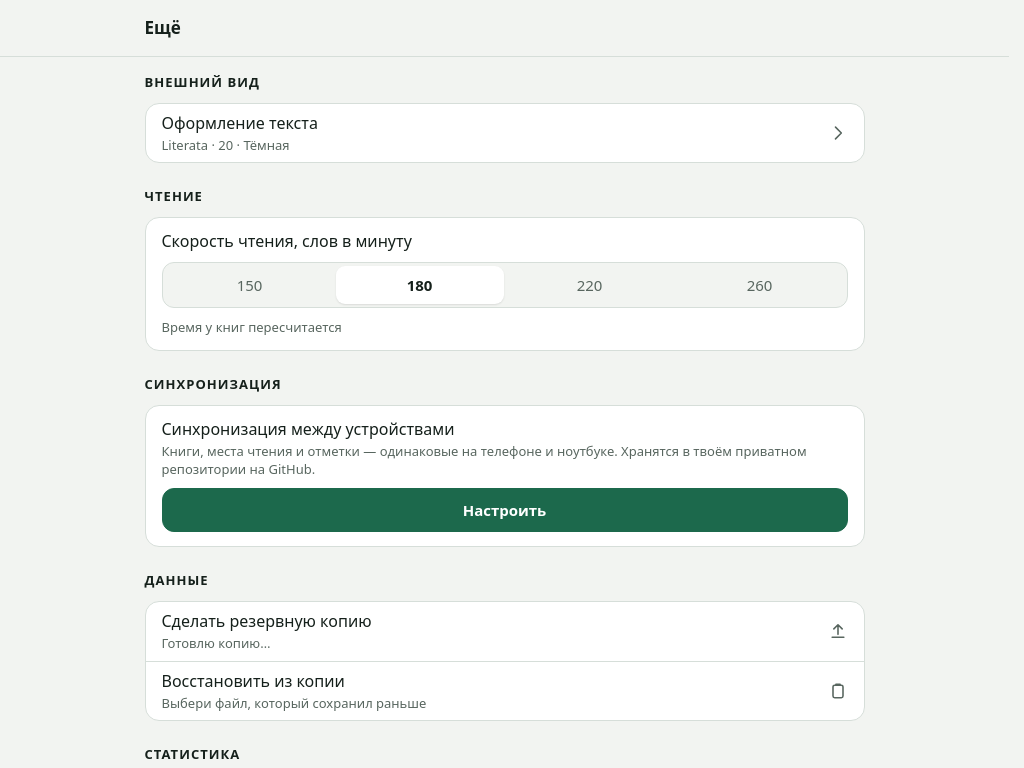
«Ещё»: внешний вид и чтение › «Оформление текста» показывает сводку и открывает ту же шторку, что и «Aa»
This screenshot has width=1024, height=768.
Click the button with class "srow" that starts with "Оформление текста". click: (240, 122)
box: [146,104,864,162]
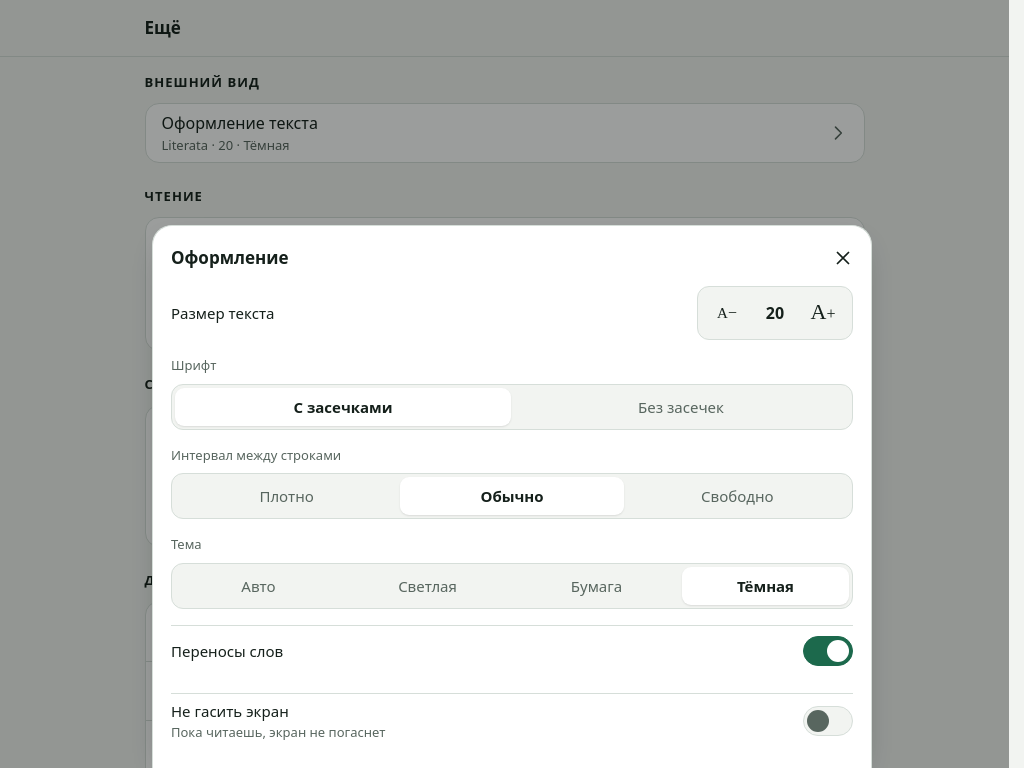
Result: the heading with class "sheet__title" reads "Оформление" at [171,246,289,269]
Result: the dialog with class "sheet" shows "Размер текста" at [171,303,274,323]
Result: the dialog with class "sheet" shows "Переносы слов" at [171,625,853,677]
